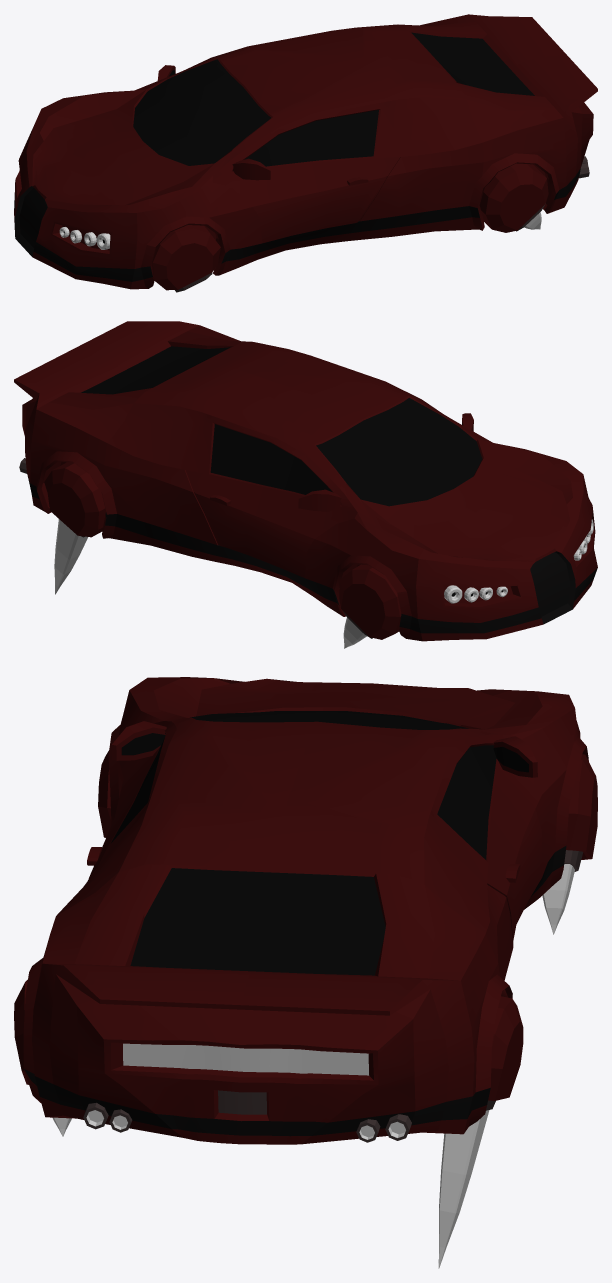
Rendered from RacingCar.obj.
3 views of the same model, one above another, from view 1: azimuth 30°, elevation 25°; view 2: azimuth 150°, elevation 25°; view 3: azimuth 270°, elevation 25° (orthographic). The views are drawn at different scales.
Visible parts, largest first — view 1: RacingCar_Cube.001, wheel.002_Cylinder.012, wheel.003_Cylinder.014; view 2: RacingCar_Cube.001, wheel_Cylinder.007, wheel.001_Cylinder.010, fire.001_Cylinder.011; view 3: RacingCar_Cube.001, fire.001_Cylinder.011, wheel.001_Cylinder.010, wheel_Cylinder.007, fire_Cylinder.009, wheel.003_Cylinder.014, wheel.002_Cylinder.012.
Boxes of the visible parts, box(x1,y1,x2,y2) form: RacingCar_Cube.001: box(14, 14, 597, 289); wheel.002_Cylinder.012: box(479, 163, 548, 232); wheel.003_Cylinder.014: box(151, 225, 220, 292); RacingCar_Cube.001: box(14, 321, 597, 641); wheel_Cylinder.007: box(339, 564, 401, 639); wheel.001_Cylinder.010: box(44, 462, 105, 537); fire.001_Cylinder.011: box(54, 519, 87, 594); RacingCar_Cube.001: box(23, 677, 588, 1144); fire.001_Cylinder.011: box(438, 1110, 489, 1268); wheel.001_Cylinder.010: box(486, 996, 523, 1110); wheel_Cylinder.007: box(564, 754, 597, 871); fire_Cylinder.009: box(542, 864, 574, 934); wheel.003_Cylinder.014: box(98, 751, 111, 837); wheel.002_Cylinder.012: box(14, 979, 28, 1084).
Bounding box in the file's own units: 14.66 × 5.73 × 8.61.
